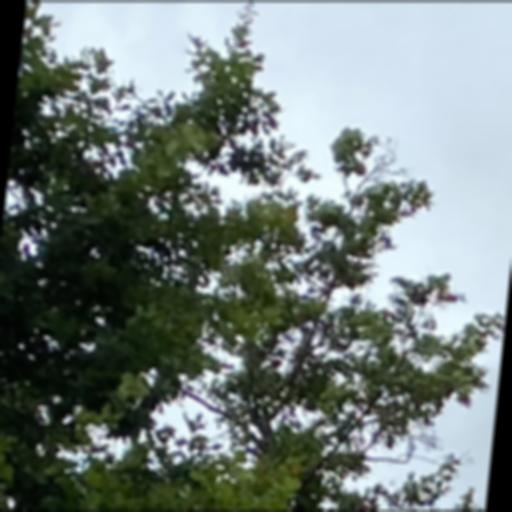tree: (1, 1, 334, 512), (146, 126, 505, 512)
